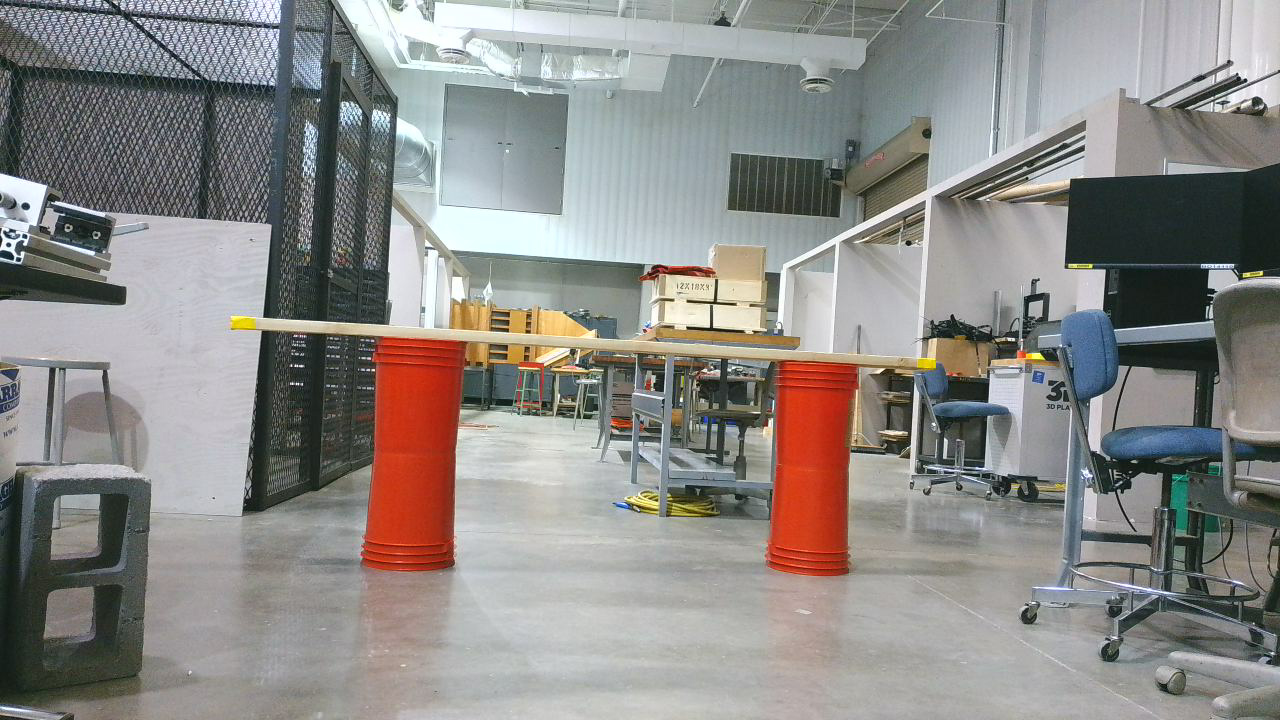red_bucket_arch: (231, 315, 948, 588)
